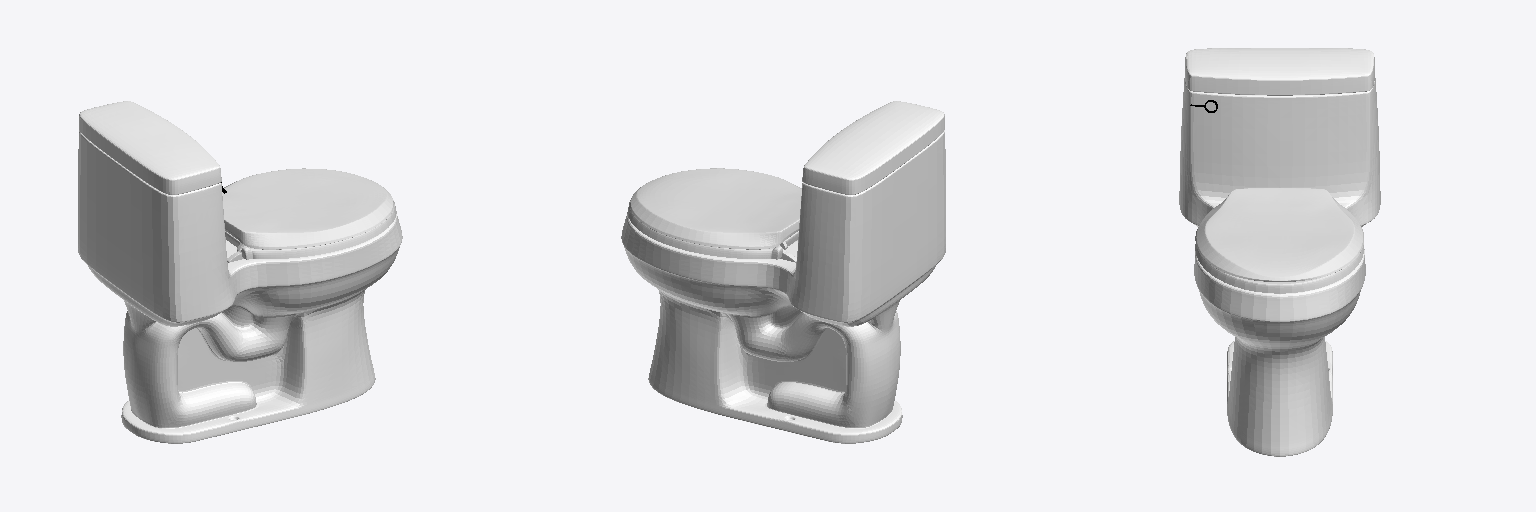
Rendered from toilet.obj.
3 views of the same model, side by side, from view 1: azimuth 30°, elevation 25°; view 2: azimuth 150°, elevation 25°; view 3: azimuth 270°, elevation 25° (orthographic).
Visible parts, largest first — view 1: 3dstylish05, 3dstylish02, 3dstylish00, 3dstylish01; view 2: 3dstylish05, 3dstylish02, 3dstylish00, 3dstylish01; view 3: 3dstylish05, 3dstylish02, 3dstylish00, 3dstylish01.
Part boxes in pixels (left/top/right/bottom): 3dstylish05: left=78, top=130, right=402, bottom=443; 3dstylish02: left=222, top=168, right=393, bottom=249; 3dstylish00: left=79, top=101, right=221, bottom=194; 3dstylish01: left=225, top=200, right=396, bottom=259; 3dstylish05: left=621, top=130, right=945, bottom=443; 3dstylish02: left=630, top=168, right=801, bottom=249; 3dstylish00: left=802, top=101, right=944, bottom=194; 3dstylish01: left=627, top=200, right=798, bottom=259; 3dstylish05: left=1179, top=78, right=1380, bottom=456; 3dstylish02: left=1195, top=188, right=1363, bottom=281; 3dstylish00: left=1185, top=48, right=1374, bottom=95; 3dstylish01: left=1195, top=244, right=1363, bottom=293.
Size of the model in its own units: 27.5 by 27.81 by 17.46.